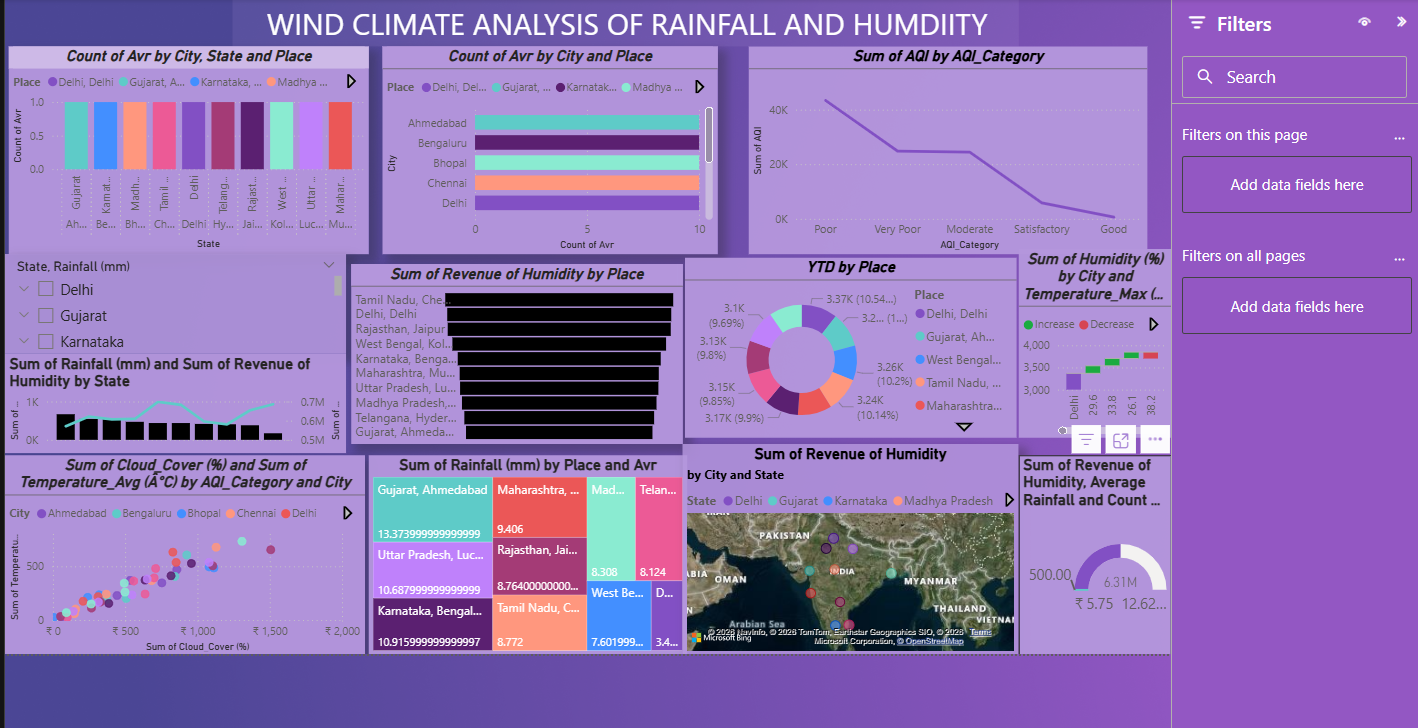

Layout of this report page (visuals, bound fields, positions):
{"tool":"powerbi","page":{"name":"ANALYSIS OF WINDFALL AND CLIMATE ","canvas":[1280,720],"ordinal":8},"visuals":[{"type":"textbox","box":[249.7,0,863.1,52.1],"z":0},{"type":"columnChart","fields":{"Category":["Event ID (NEW).City","avr rainnfall.State"],"Y":["CountNonNull(avr rainnfall.Avr )"],"Series":["Event_id (Sheet1).Place"]},"box":[4.1,52.1,395.2,227.8],"z":1000},{"type":"lineChart","fields":{"Y":["Sum(Event ID (NEW).AQI)"],"Category":["Event ID (NEW).AQI_Category"]},"box":[816.5,52.1,437.7,227.8],"z":1002},{"type":"slicer","fields":{"Values":["Event ID (NEW).State","Event_id (Sheet1).Rainfall (mm)"]},"box":[0,279.9,374.6,109.8],"z":1003},{"type":"barChart","fields":{"Category":["Event ID (NEW).City","avr rainnfall.State"],"Y":["CountNonNull(avr rainnfall.Avr )"],"Series":["Event ID (NEW).Place"]},"box":[414.4,52.1,367.8,227.8],"z":1004},{"type":"funnel","fields":{"Category":["Event ID (NEW).Place"],"Y":["Sum(Event ID (NEW).Revenue of Humidity)"]},"box":[380.1,290.9,363.6,197.6],"z":1005},{"type":"donutChart","fields":{"Category":["Event ID (NEW).Place"],"Y":["Event ID (NEW).YTD"]},"box":[746.5,284,363.6,197.6],"z":1006},{"type":"scatterChart","fields":{"Series":["Event_id (Sheet1).City"],"Category":["Event ID (NEW).AQI_Category"],"X":["Sum(Event ID (NEW).Cloud_Cover (%))"],"Y":["Sum(Event ID (NEW).Temperature_Avg (Â°C))"]},"box":[0,500.9,395.2,219.6],"z":1007},{"type":"treemap","fields":{"Group":["Event ID (NEW).Place","Event ID (NEW).City","Event ID (NEW).State"],"Values":["Sum(Event ID (NEW).Rainfall (mm))"],"Details":["avr rainnfall.Avr "]},"box":[399.3,500.9,349.9,219.6],"z":1008},{"type":"map","fields":{"Category":["Event ID (NEW).City"],"Series":["Event ID (NEW).State"],"Size":["Sum(Event ID (NEW).Revenue of Humidity)"]},"box":[743.7,488.5,369.1,231.9],"z":1009},{"type":"waterfallChart","fields":{"Category":["Event ID (NEW).City","Event ID (NEW).State"],"Y":["Sum(Event ID (NEW).Humidity (%))"],"Breakdown":["Event ID (NEW).Temperature_Max (Â°C)"]},"box":[1112.9,274.4,167.4,207.2],"z":1010},{"type":"gauge","fields":{"Y":["Sum(Event ID (NEW).Revenue of Humidity)"],"MinValue":["Event ID (NEW).Average Rainfall"],"TargetValue":["CountNonNull(Event ID (NEW).AQI_Category)"]},"box":[1112.9,500.9,167.4,219.6],"z":1011},{"type":"lineStackedColumnComboChart","fields":{"Category":["Event ID (NEW).State"],"Y":["Sum(Event_id (Sheet1).Rainfall (mm))"],"Y2":["Sum(Event ID (NEW).Revenue of Humidity)"]},"box":[0,389.7,374.6,108.4],"z":1012}]}

Visuals, with their boxes on the page's 1280x720 design canvas (x1, y1, x2, y2). These are canvas units, not pixel positions in the 1418x728 screenshot, which may show the page scaled, cropped or inside an application window:
textbox: [x1=250, y1=0, x2=1113, y2=52]
columnChart - Event ID (NEW).City x avr rainnfall.State: [x1=4, y1=52, x2=399, y2=280]
lineChart - Sum(Event ID (NEW).AQI) x Event ID (NEW).AQI_Category: [x1=816, y1=52, x2=1254, y2=280]
slicer - Event ID (NEW).State x Event_id (Sheet1).Rainfall (mm): [x1=0, y1=280, x2=375, y2=390]
barChart - Event ID (NEW).City x avr rainnfall.State: [x1=414, y1=52, x2=782, y2=280]
funnel - Event ID (NEW).Place x Sum(Event ID (NEW).Revenue of Humidity): [x1=380, y1=291, x2=744, y2=488]
donutChart - Event ID (NEW).Place x Event ID (NEW).YTD: [x1=746, y1=284, x2=1110, y2=482]
scatterChart - Event_id (Sheet1).City x Event ID (NEW).AQI_Category: [x1=0, y1=501, x2=395, y2=720]
treemap - Event ID (NEW).Place x Event ID (NEW).City: [x1=399, y1=501, x2=749, y2=720]
map - Event ID (NEW).City x Event ID (NEW).State: [x1=744, y1=488, x2=1113, y2=720]
waterfallChart - Event ID (NEW).City x Event ID (NEW).State: [x1=1113, y1=274, x2=1280, y2=482]
gauge - Sum(Event ID (NEW).Revenue of Humidity) x Event ID (NEW).Average Rainfall: [x1=1113, y1=501, x2=1280, y2=720]
lineStackedColumnComboChart - Event ID (NEW).State x Sum(Event_id (Sheet1).Rainfall (mm)): [x1=0, y1=390, x2=375, y2=498]
